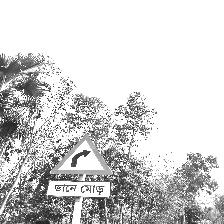Right-turn: (47, 134, 113, 198)
